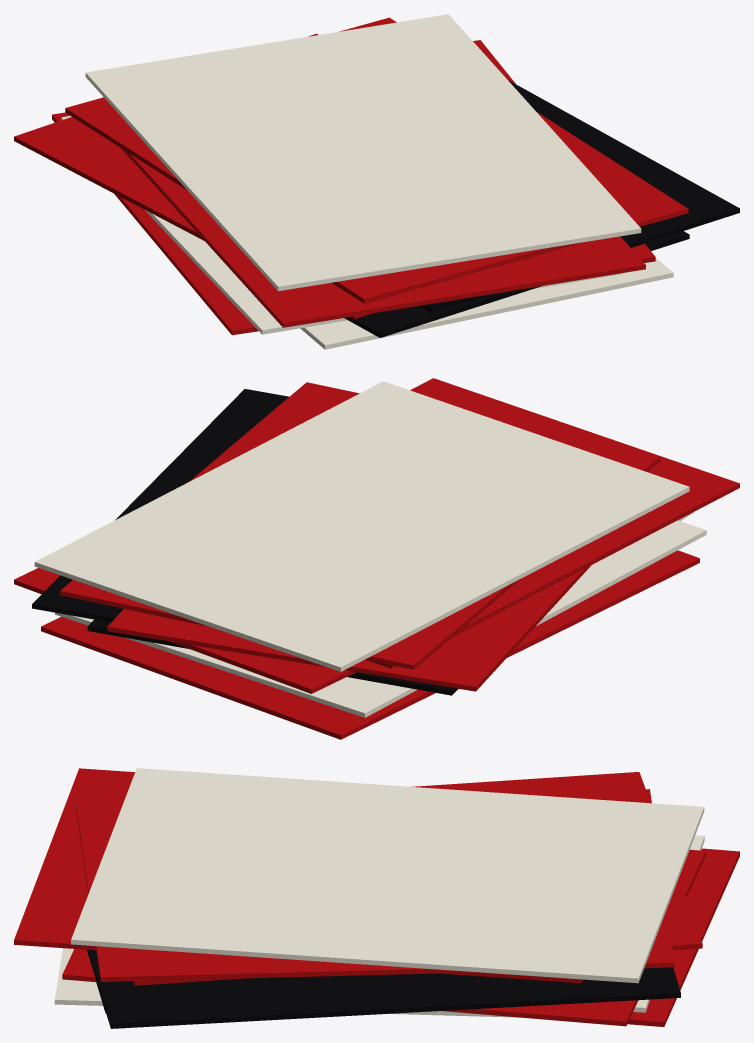
File: Item_OR_Cards_07.glb
3 views of the same model, one above another, from view 1: azimuth 30°, elevation 25°; view 2: azimuth 150°, elevation 25°; view 3: azimuth 270°, elevation 25° (orthographic). The views are drawn at different scales.
Parts seen in each view (by area): view 1: Item_OR_Cards_07; view 2: Item_OR_Cards_07; view 3: Item_OR_Cards_07.
Boxes of the visible parts, bbox=[...] form: Item_OR_Cards_07: bbox=[14, 14, 739, 349]; Item_OR_Cards_07: bbox=[14, 378, 739, 739]; Item_OR_Cards_07: bbox=[14, 768, 739, 1028].
Size of the model in its own units: 0.0895 by 0.0098 by 0.1111.
